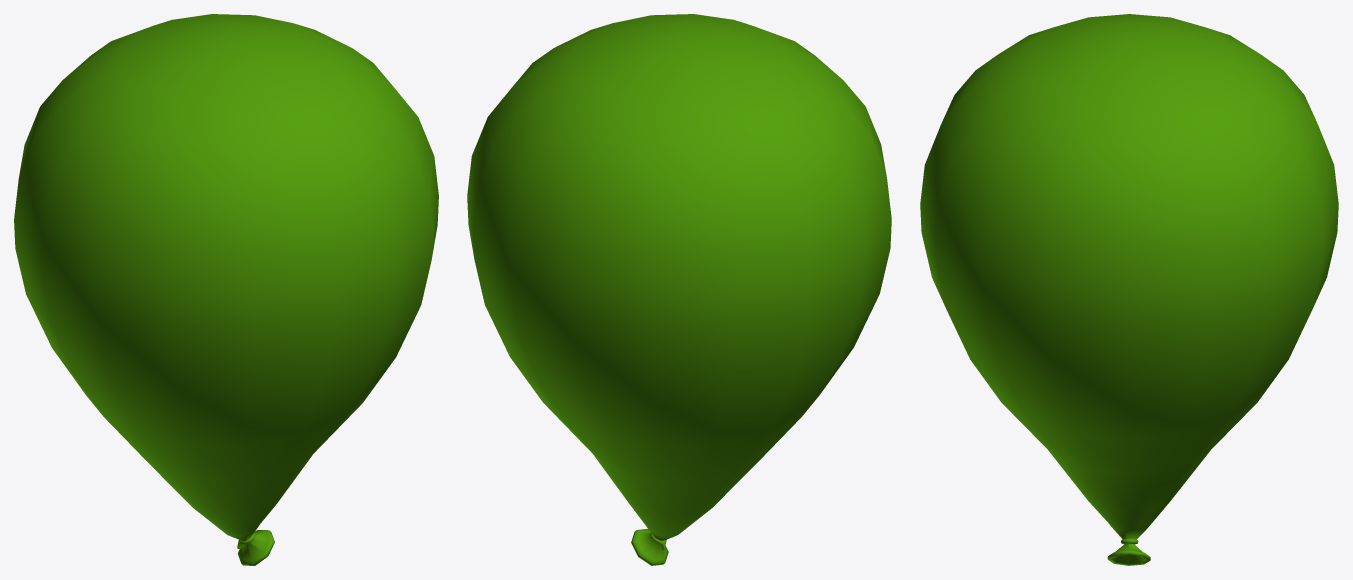
The model's file is greenBloon.glb.
3 views of the same model, side by side, from view 1: azimuth 30°, elevation 25°; view 2: azimuth 150°, elevation 25°; view 3: azimuth 270°, elevation 25° (orthographic). The views are drawn at different scales.
Bounding box in the file's own units: 0.3461 × 0.4732 × 0.3461.
